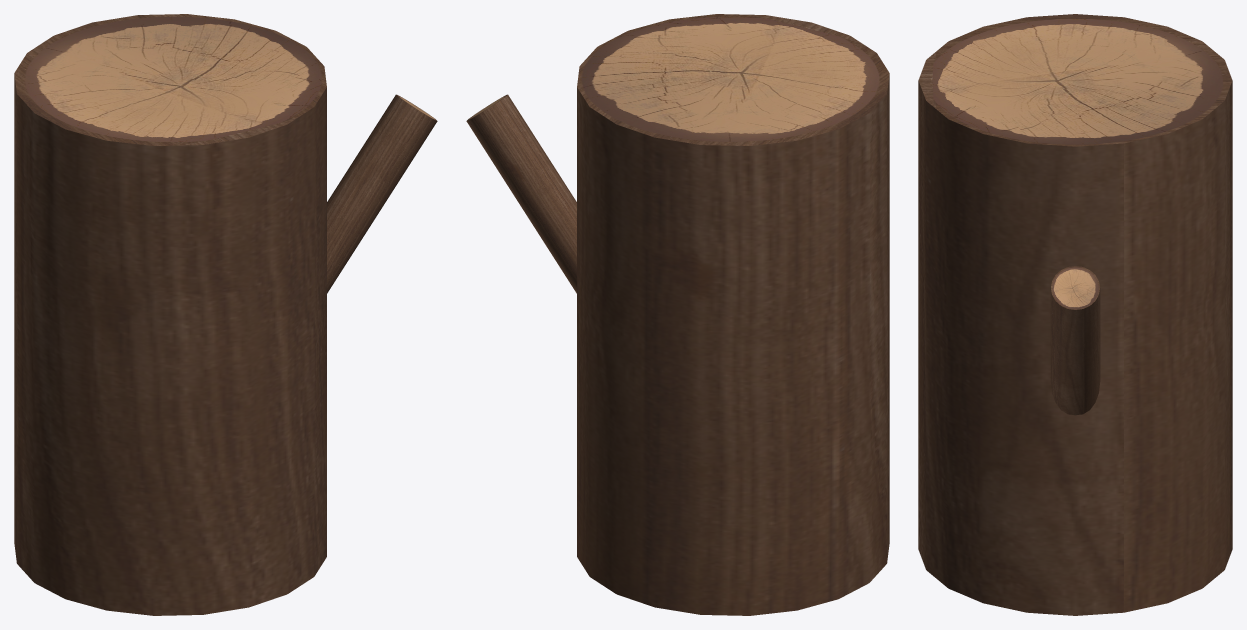
Rendered from sung.fbx.
3 renders of one model, left to right at view 1: azimuth 30°, elevation 25°; view 2: azimuth 150°, elevation 25°; view 3: azimuth 270°, elevation 25°, orthographic.
Parts seen in each view (by area): view 1: pCylinder1, pCylinder2; view 2: pCylinder1, pCylinder2; view 3: pCylinder1, pCylinder2.
Boxes of the visible parts, box(x1,y1,x2,y2) form: pCylinder1: box(14, 14, 326, 615); pCylinder2: box(327, 94, 437, 293); pCylinder1: box(577, 14, 889, 615); pCylinder2: box(466, 94, 576, 293); pCylinder1: box(918, 14, 1232, 615); pCylinder2: box(1050, 266, 1100, 415).
Size of the model in its own units: 1.78 by 2 by 1.21.
